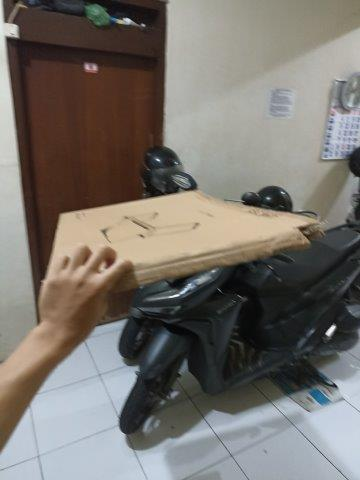kardus: (53, 190, 322, 289)
